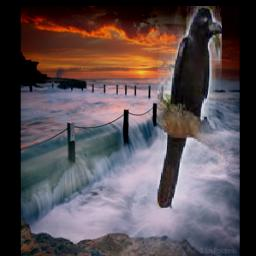Crow: (158, 6, 223, 209)
